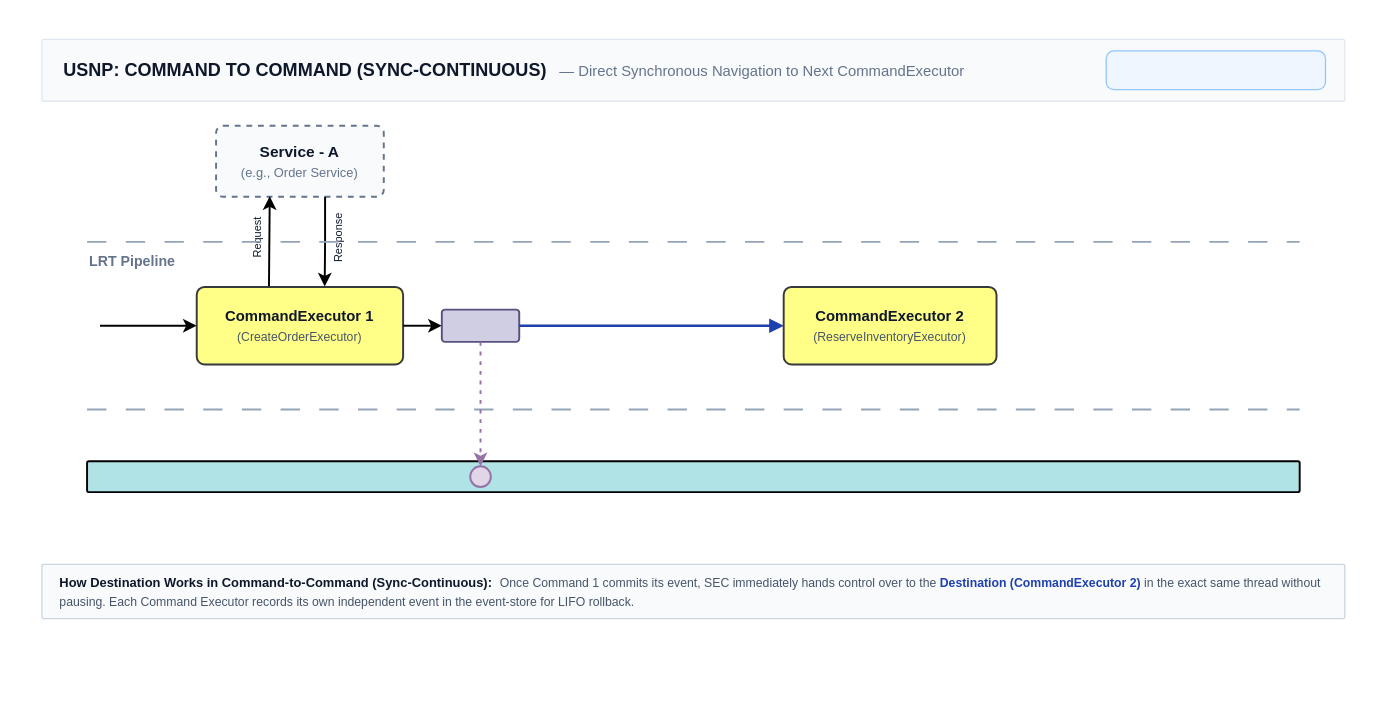
The diagram is 1385 pixels wide and 715 high, and some of its shapes have lost their labels. Each missing label, with the box of its shape:
PATTERN 1 NAVIGATION: (1105, 50, 1325, 90)
SEC: (440, 308, 520, 342)
